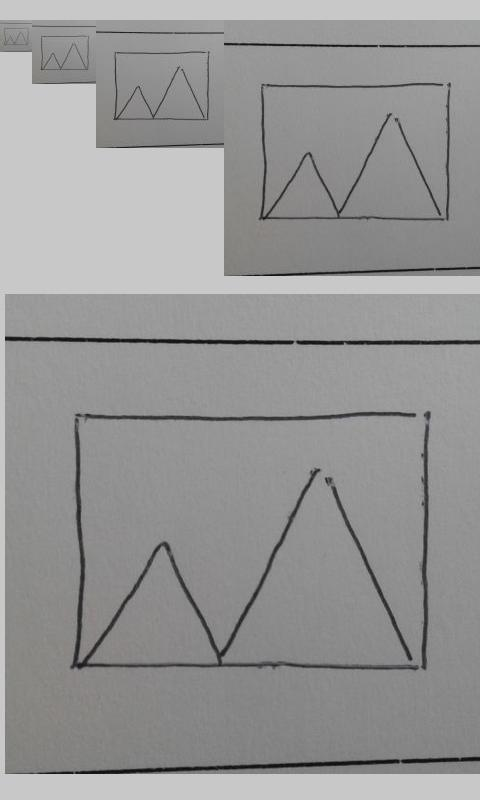image_view: (70, 409, 434, 683), (258, 80, 454, 224), (113, 50, 210, 122), (40, 35, 90, 71), (3, 27, 30, 46)
